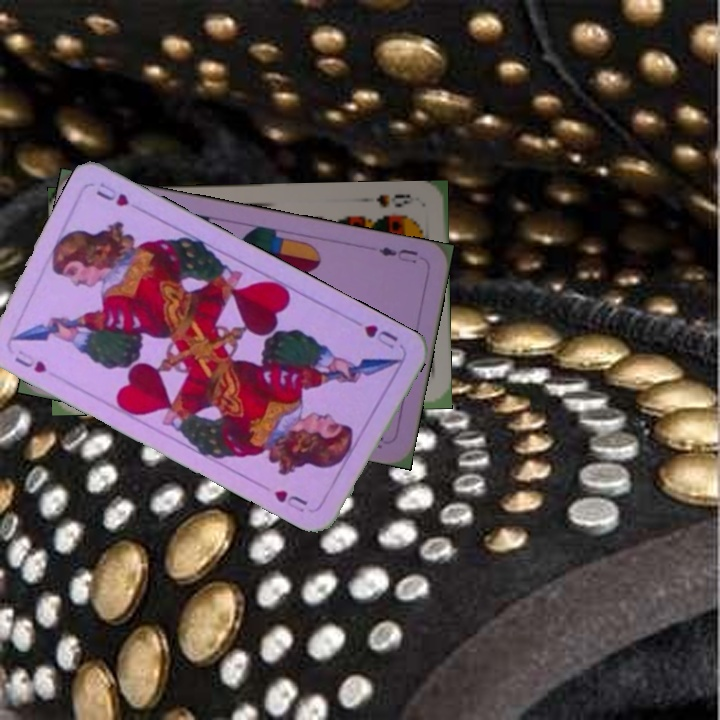EU: (375, 243, 421, 266)
HU: (360, 320, 401, 352), (10, 346, 49, 376)
S8: (372, 190, 422, 210)
